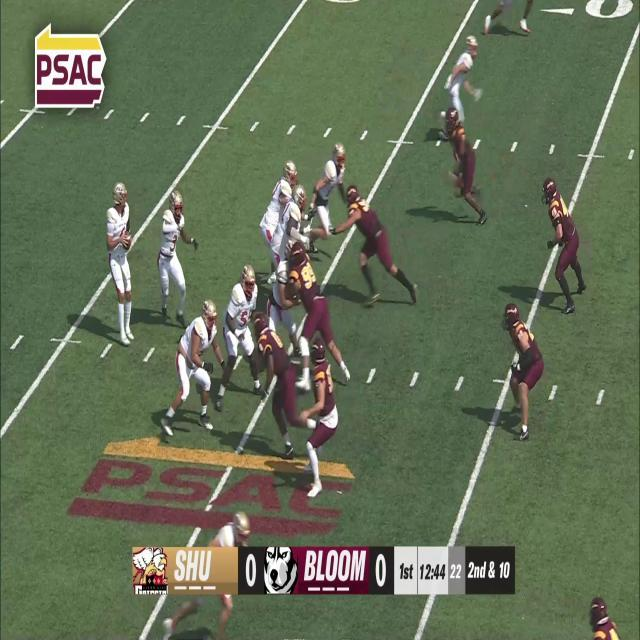football: (122, 228, 132, 254)
